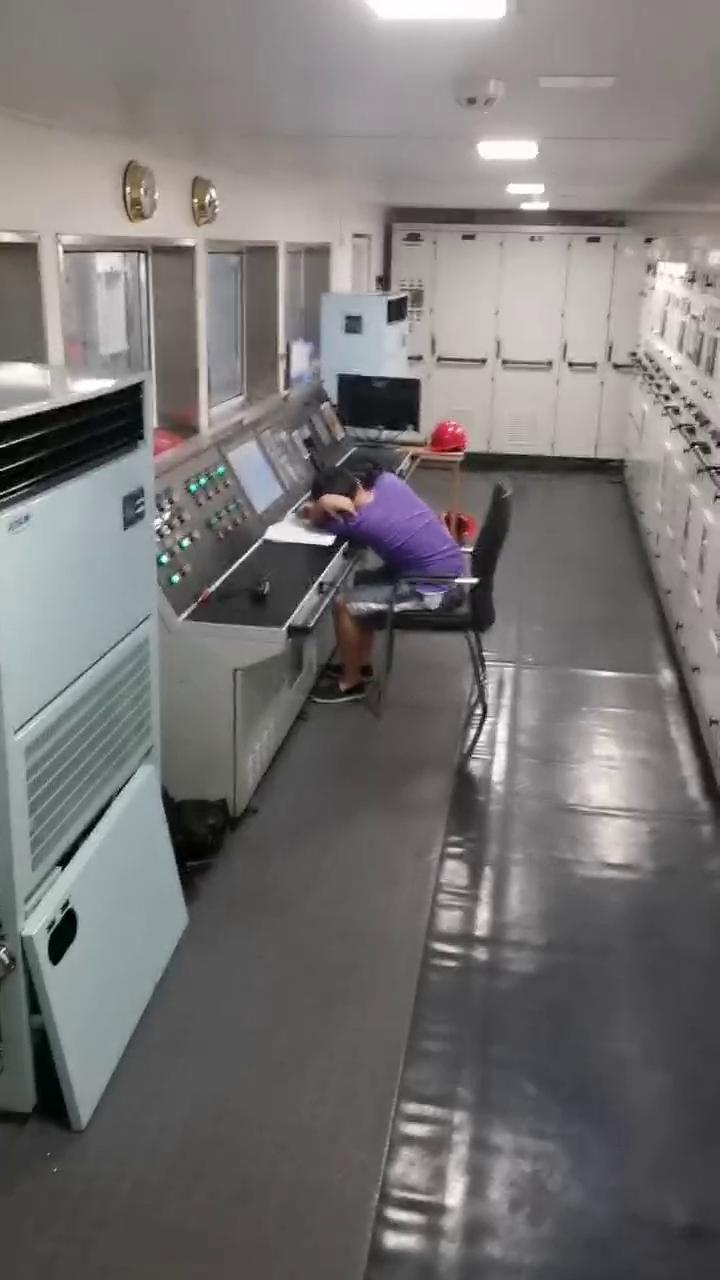sleep: (302, 468, 481, 620)
